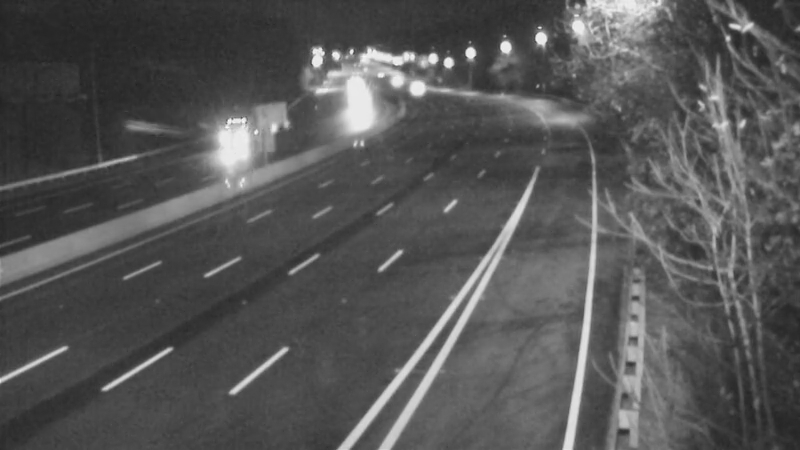vehicle: (387, 61, 437, 111), (370, 55, 420, 105), (201, 112, 251, 162), (332, 85, 382, 135)
